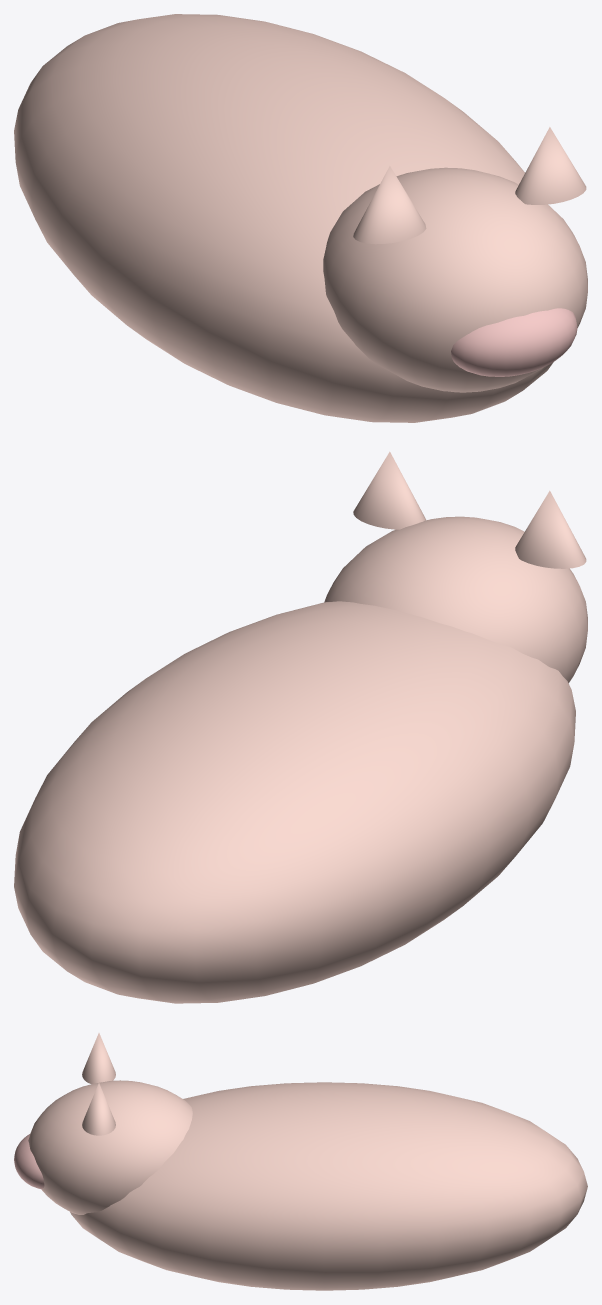
Rendered from piglet.glb.
3 views of the same model, one above another, from view 1: azimuth 30°, elevation 25°; view 2: azimuth 150°, elevation 25°; view 3: azimuth 270°, elevation 25° (orthographic). The views are drawn at different scales.
Visible parts, largest first — view 1: piglet-body, piglet-head, piglet-snout, piglet-ear-left, piglet-ear-right; view 2: piglet-body, piglet-head, piglet-ear-left, piglet-ear-right; view 3: piglet-body, piglet-head, piglet-ear-right, piglet-ear-left, piglet-snout.
Boxes of the visible parts, box(x1,y1,x2,y2) form: piglet-body: box(14, 14, 553, 422); piglet-head: box(323, 167, 587, 392); piglet-snout: box(451, 308, 577, 376); piglet-ear-left: box(353, 166, 426, 244); piglet-ear-right: box(515, 127, 586, 204); piglet-body: box(14, 601, 575, 1003); piglet-head: box(324, 516, 587, 682); piglet-ear-left: box(515, 490, 586, 568); piglet-ear-right: box(353, 451, 425, 529); piglet-body: box(70, 1082, 587, 1290); piglet-head: box(28, 1080, 192, 1214); piglet-ear-right: box(82, 1083, 115, 1135); piglet-ear-left: box(82, 1033, 115, 1084); piglet-snout: box(14, 1134, 44, 1189).
Size of the model in its own units: 0.68 by 0.555 by 1.35.
